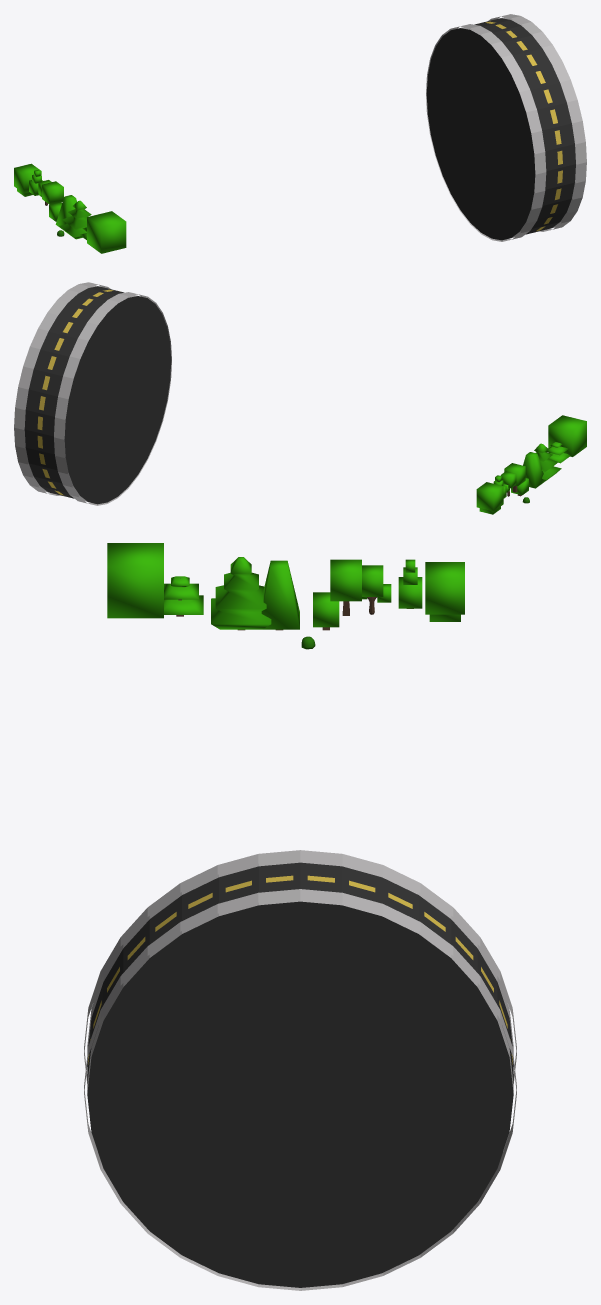
The model's file is Tree_wheel.glb.
The picture shows the model from 3 angles, top to bottom: view 1: azimuth 30°, elevation 25°; view 2: azimuth 150°, elevation 25°; view 3: azimuth 270°, elevation 25°; orthographic projection. The views are drawn at different scales.
Visible parts, largest first — view 1: Road, Path Left, Path Right, Cube.016, Cube.012, Cube.009, Cube.001, Cube.011; view 2: Road, Path Left, Path Right, Cube.016, Cube.009, Cube.011, Cube.012, Cube.001, Cube.015; view 3: Road, Path Right, Path Left, Cube.016, Cube.012, Cube.009, Cube.011, Cube.001, Cube.015, Cube.068, Cube.002.
Part boxes in pixels (x1,y1,x2,y2): Road: (426,17,576,240); Path Left: (426,24,546,241); Path Right: (488,14,586,231); Cube.016: (87,211,126,253); Cube.012: (59,200,91,239); Cube.009: (14,163,41,196); Cube.001: (42,181,63,204); Cube.011: (55,195,76,230); Road: (24,285,171,504); Path Left: (54,292,171,505); Path Right: (14,282,110,495); Cube.016: (548,415,586,456); Cube.009: (476,482,503,514); Cube.011: (523,452,544,488); Cube.012: (534,443,561,481); Cube.001: (504,463,525,492); Cube.015: (545,442,569,463); Road: (87,860,513,1287); Path Right: (84,889,516,1290); Path Left: (84,850,516,1083); Cube.016: (107,543,163,618); Cube.012: (211,557,271,630); Cube.009: (425,562,464,621); Cube.011: (261,560,299,630); Cube.001: (330,559,361,615); Cube.015: (164,576,203,616); Cube.068: (398,559,422,608); Cube.002: (362,565,391,614).
Size of the model in its own units: 36.12 by 14.36 by 14.36.
